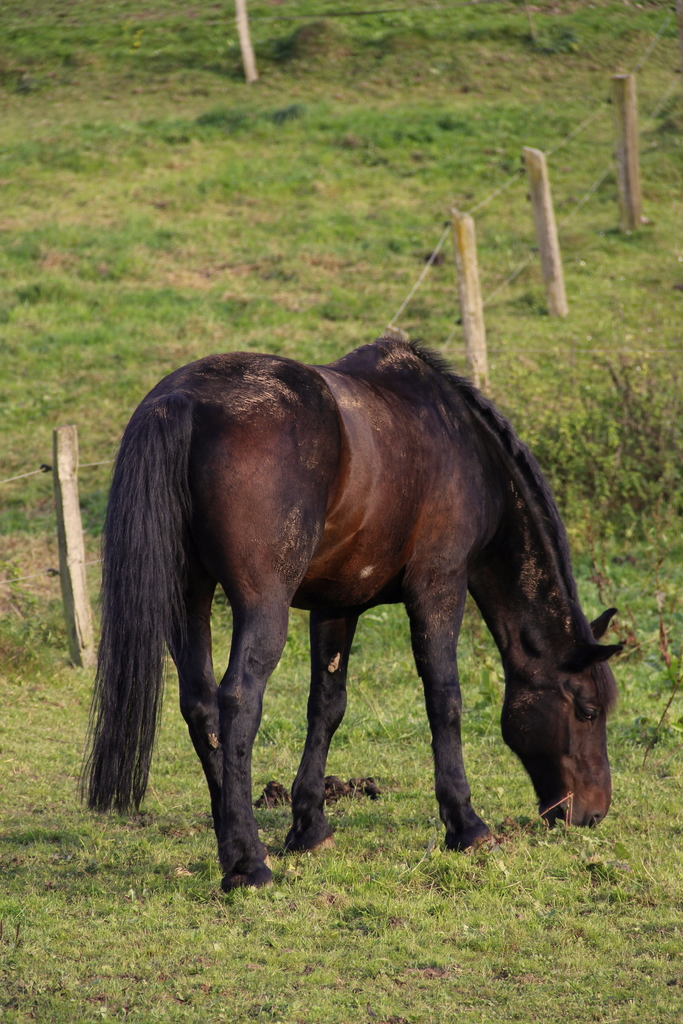horse: (71, 338, 627, 889)
